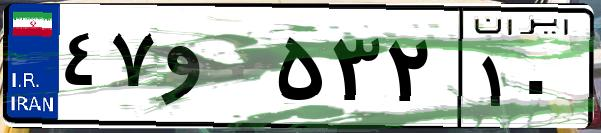0: (525, 38, 570, 115)
1: (475, 38, 525, 113)
2: (385, 28, 445, 110)
3: (330, 28, 385, 110)
4: (57, 26, 110, 100)
5: (270, 28, 330, 110)
7: (110, 28, 158, 98)
و: (158, 20, 270, 120)
